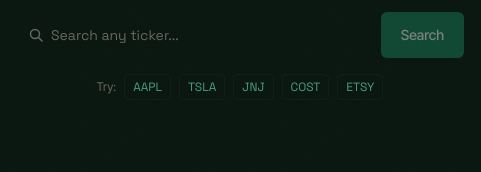
HeroSearch › shows error for 404 response
The image size is (481, 172).
Type "ZZZZ" into the field with placeholder "Search any ticker..." at (205, 35), box top-left (51, 25), bottom-right (360, 45)
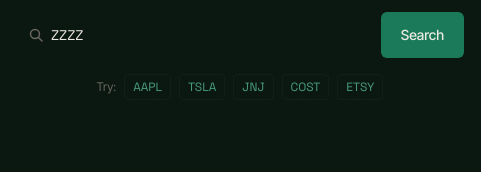
Submit the form with placeholder "search any ticker", box top-left (16, 12), bottom-right (464, 58)
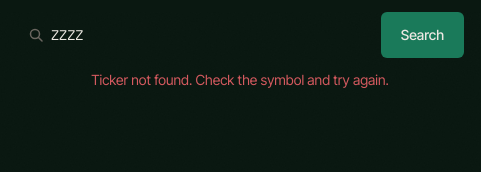
Check: the text "Ticker not found. Check the symbol and try again." is shown, box top-left (91, 71), bottom-right (389, 88)
